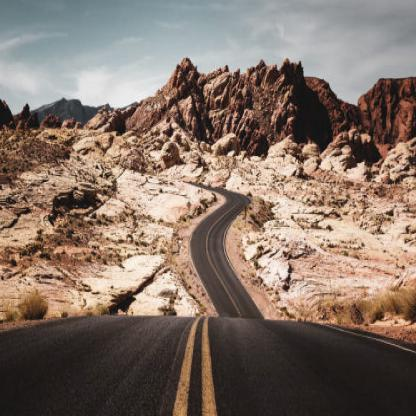Sedimentary_Sandstone: (270, 67, 320, 146), (369, 74, 415, 146), (170, 56, 210, 134)
